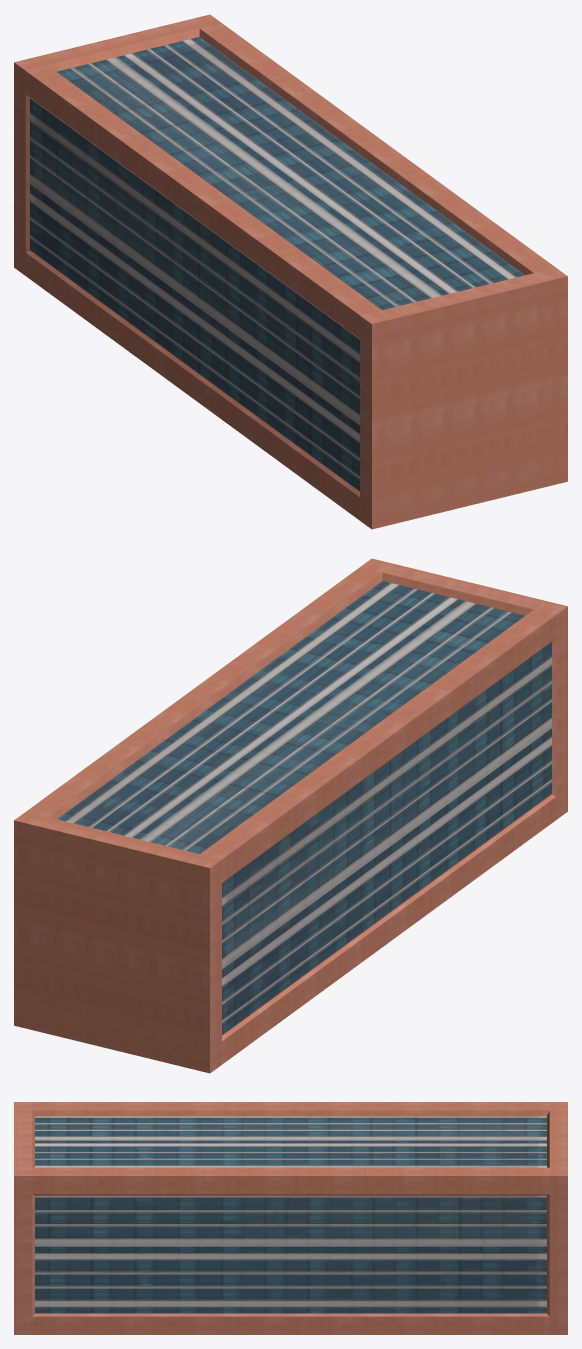
File: buildings-comercial-05.obj
3 renders of one model, top to bottom at view 1: azimuth 30°, elevation 25°; view 2: azimuth 150°, elevation 25°; view 3: azimuth 270°, elevation 25°, orthographic. The views are drawn at different scales.
Visible parts, largest first — view 1: buildings-comercial-05_Cube.097; view 2: buildings-comercial-05_Cube.097; view 3: buildings-comercial-05_Cube.097.
Part boxes in pixels (<box>): buildings-comercial-05_Cube.097: <box>14,14,567,529</box>; buildings-comercial-05_Cube.097: <box>14,558,567,1073</box>; buildings-comercial-05_Cube.097: <box>14,1102,567,1334</box>.
Size of the model in its own units: 3.79 by 3.79 by 11.97.
